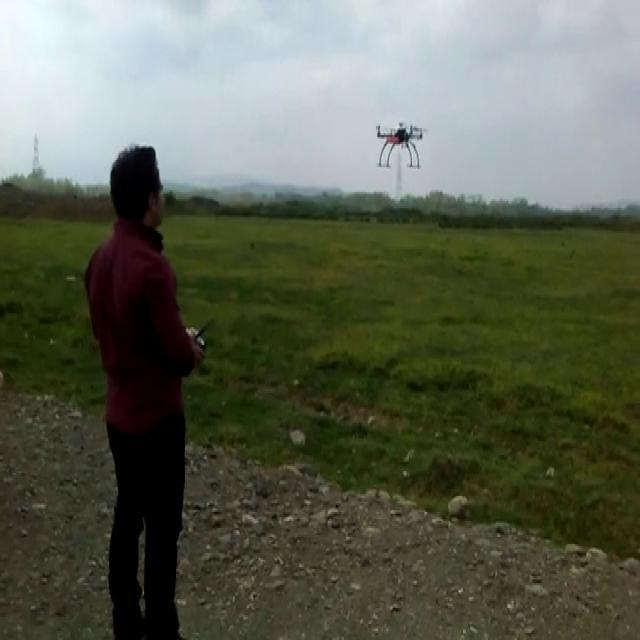drone: (373, 121, 428, 169)
